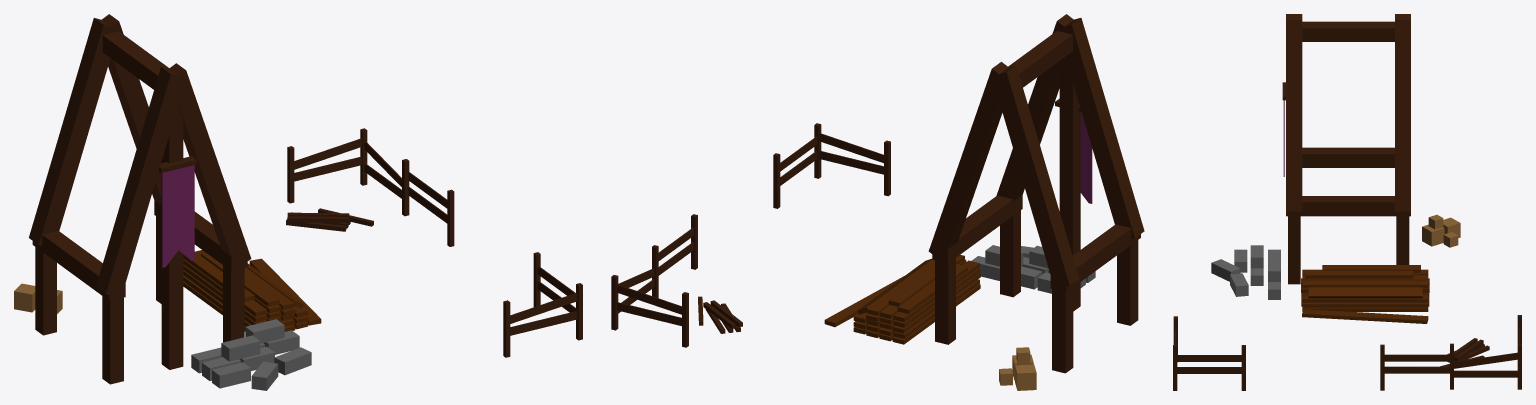
The model's file is FarmBuildPhase2v1.fbx.
3 renders of one model, left to right at view 1: azimuth 30°, elevation 25°; view 2: azimuth 150°, elevation 25°; view 3: azimuth 270°, elevation 25°, orthographic. The views are drawn at different scales.
Parts seen in each view (by area): view 1: Cube.2764; view 2: Cube.2764; view 3: Cube.2764.
Part boxes in pixels (left/top/right/bottom): Cube.2764: left=14, top=14, right=582, bottom=390; Cube.2764: left=611, top=14, right=1144, bottom=390; Cube.2764: left=1173, top=14, right=1521, bottom=390.
Size of the model in its own units: 199 by 139 by 182.
